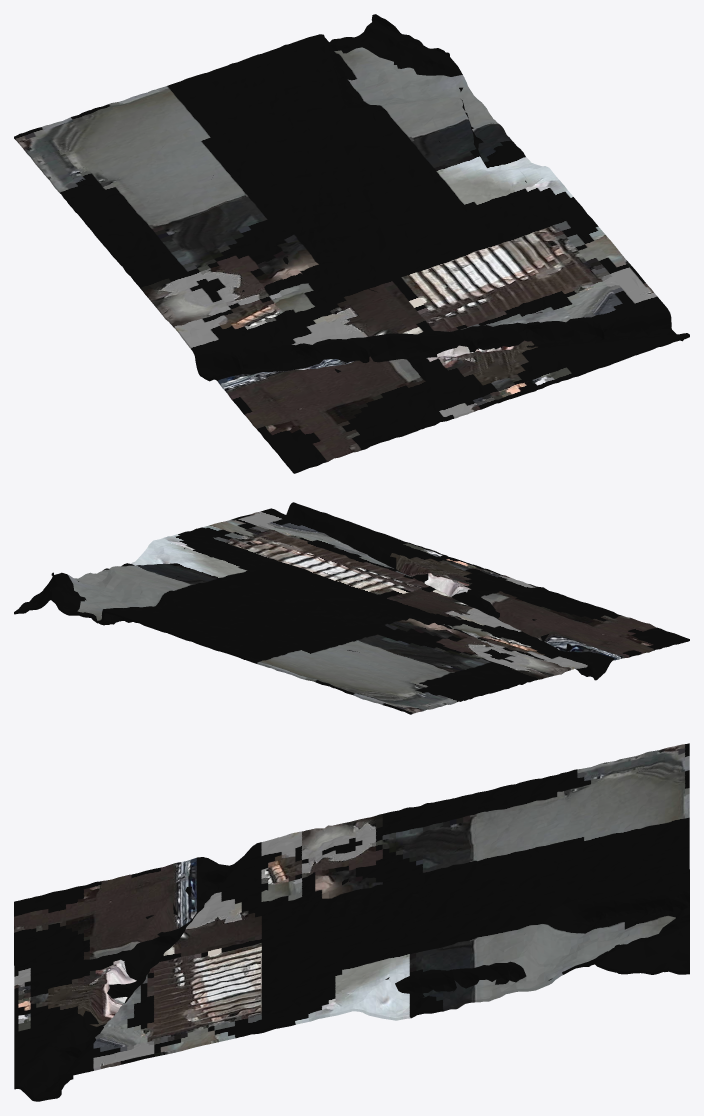
3 renders of one model, top to bottom at view 1: azimuth 30°, elevation 25°; view 2: azimuth 150°, elevation 25°; view 3: azimuth 270°, elevation 25°, orthographic. The views are drawn at different scales.
Visible parts, largest first — view 1: node_189; view 2: node_189; view 3: node_189.
Part boxes in pixels (bbox=[...]): node_189: bbox=[14, 14, 689, 473]; node_189: bbox=[14, 502, 689, 714]; node_189: bbox=[14, 743, 689, 1101].
Size of the model in its own units: 4.5 by 1.82 by 5.5.
Materials: 1 (1 with a texture image).
